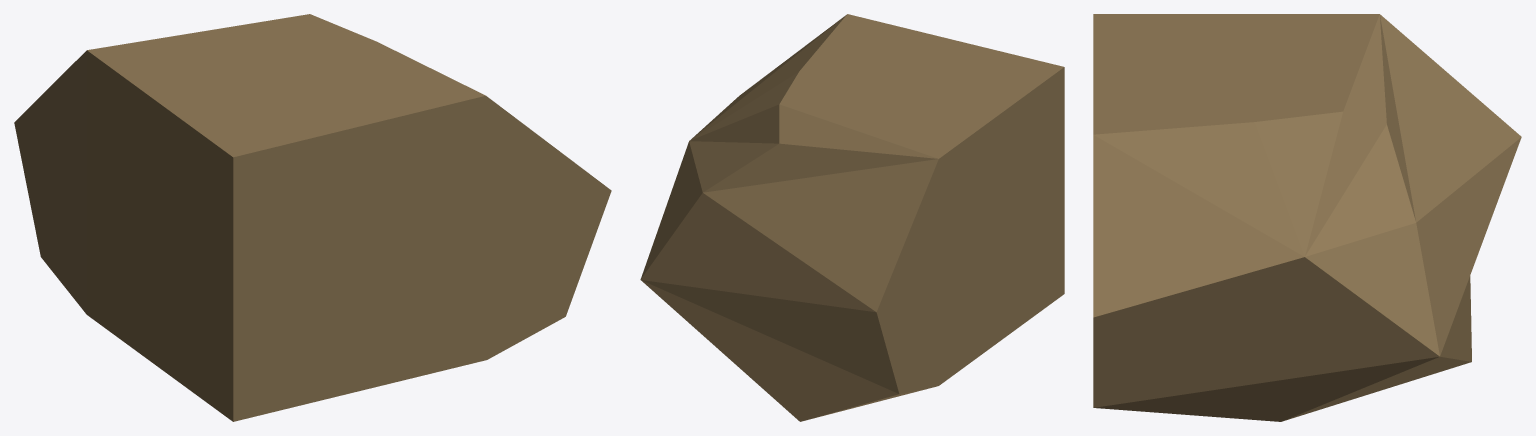
File: LightRockEdgeSmallExternalCurve1.fbx
3 views of the same model, side by side, from view 1: azimuth 30°, elevation 25°; view 2: azimuth 150°, elevation 25°; view 3: azimuth 270°, elevation 25° (orthographic). The views are drawn at different scales.
Parts seen in each view (by area): view 1: pCube1; view 2: pCube1; view 3: pCube1.
Boxes of the visible parts, x1,y1,x2,y2 form: pCube1: (14,14,611,421); pCube1: (640,14,1064,421); pCube1: (1093,14,1521,421).
Bounding box in the file's own units: 299 × 227 × 300.
Materials: 1 (1 with a texture image).
